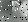person: (20, 2, 28, 17), (14, 3, 20, 14)
